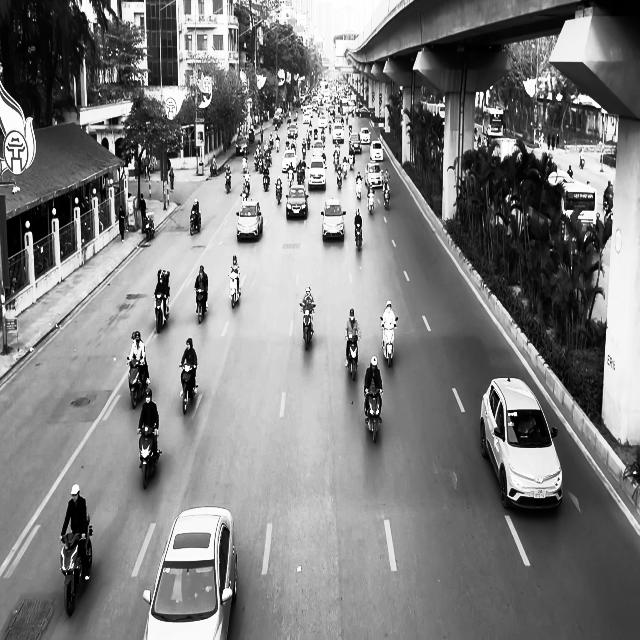bus: (482, 107, 505, 138)
car: (142, 506, 238, 640), (479, 376, 563, 511), (235, 200, 262, 240), (321, 198, 346, 241), (286, 184, 308, 220), (307, 157, 326, 190), (365, 162, 383, 188), (282, 150, 298, 172), (349, 132, 362, 154), (235, 136, 249, 156), (370, 140, 383, 161), (332, 123, 344, 143), (360, 127, 370, 143)
motorbike: (58, 514, 92, 617), (138, 424, 162, 489), (126, 356, 148, 408), (364, 387, 383, 443), (178, 362, 198, 414), (380, 315, 398, 367), (300, 302, 316, 349), (345, 333, 360, 380), (153, 291, 169, 333), (228, 273, 241, 308), (195, 288, 207, 324), (144, 212, 154, 240), (190, 210, 201, 235), (354, 222, 362, 251), (382, 185, 390, 209), (262, 168, 270, 191), (367, 189, 374, 215), (355, 177, 362, 200), (275, 182, 282, 204), (225, 174, 231, 194), (337, 165, 342, 188)
